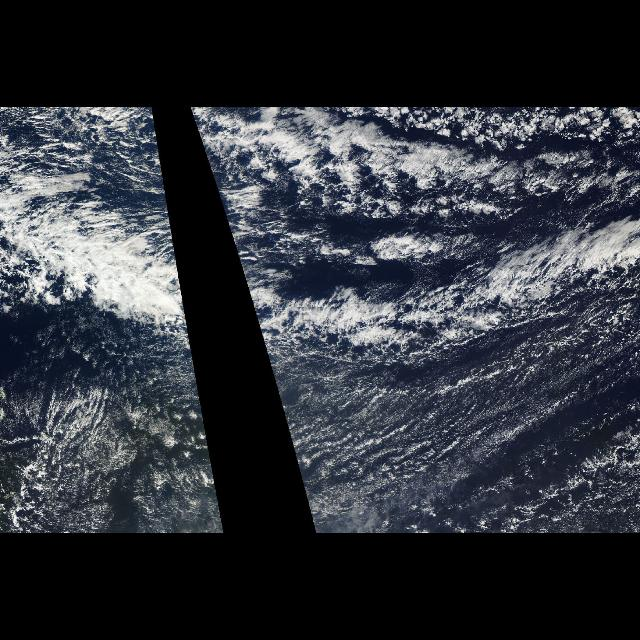Sugar: (260, 330, 632, 532), (4, 332, 188, 532)
